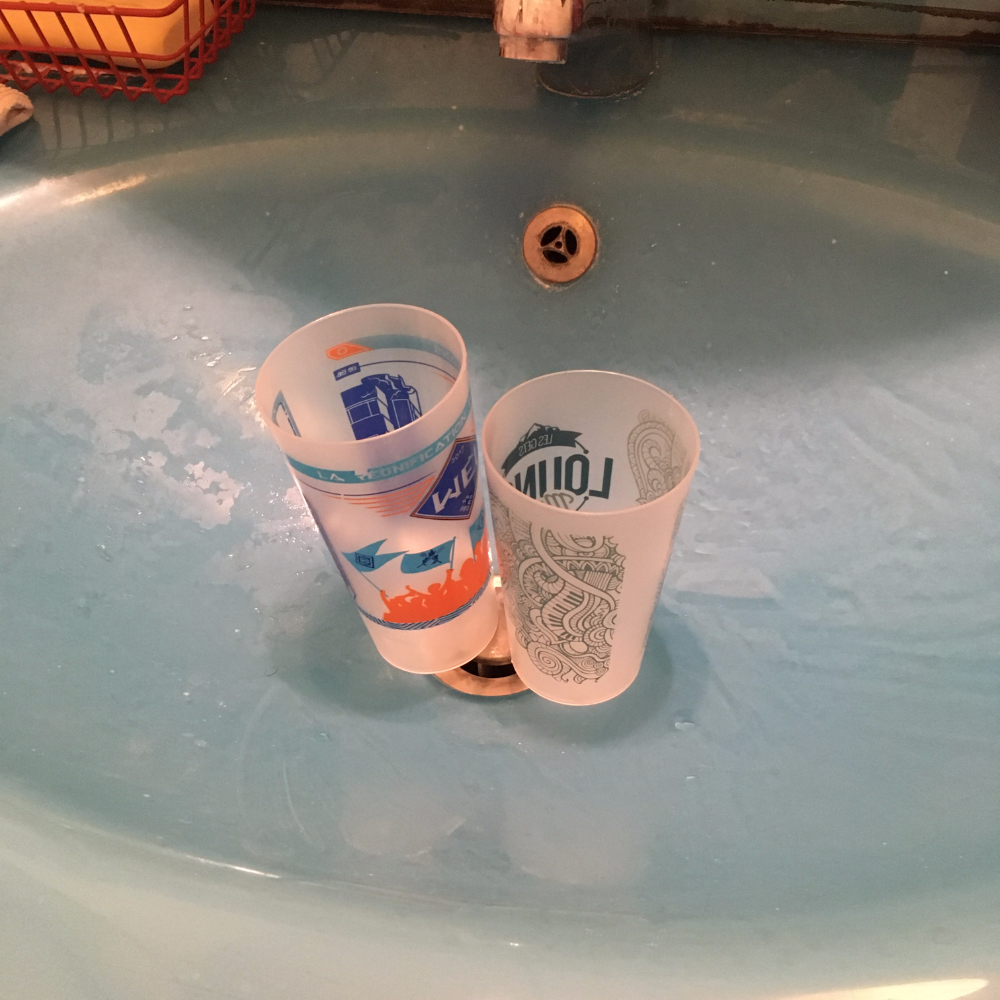ecocup: (254, 303, 498, 673), (480, 368, 701, 706)
